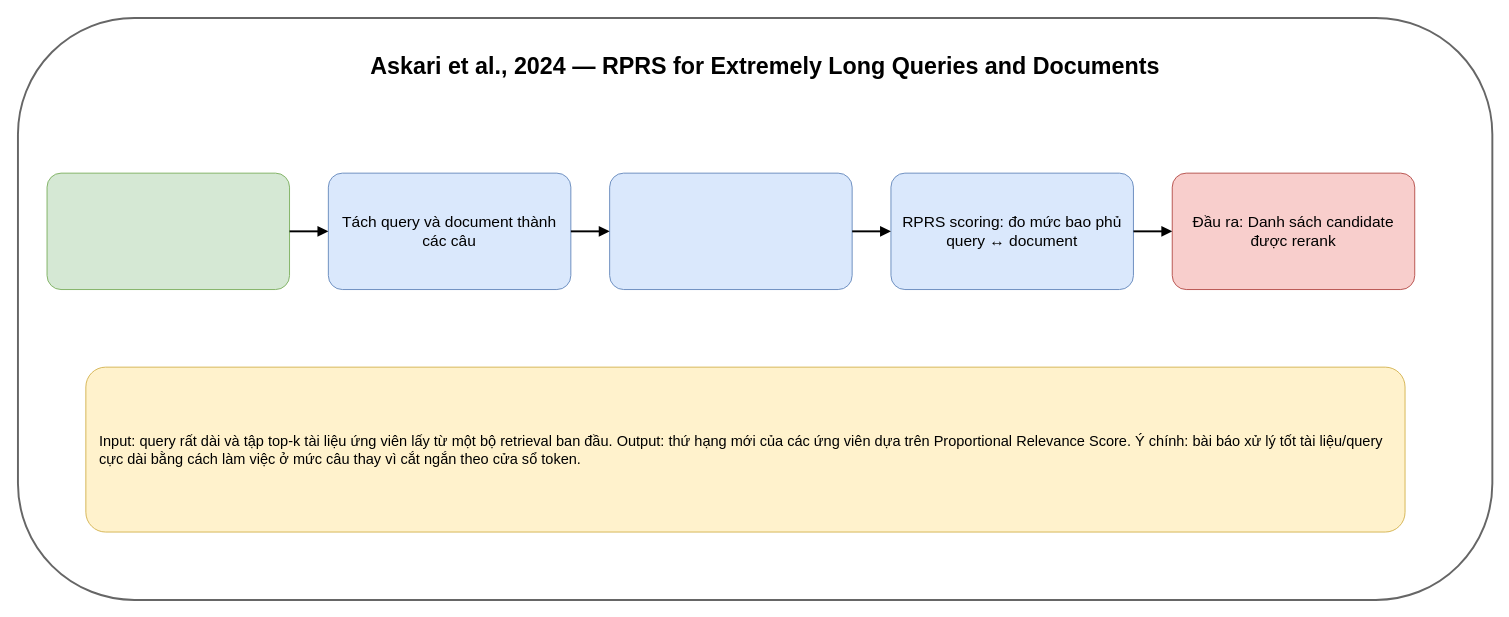
Some shapes in this 1509 by 617 pixel diagram are drawn without their labels. Each missing label, with the centre of its shape:
Embedding cho từng câu: (730,231)
Đầu vào: Long query + Top-k candidate docs: (168,231)
